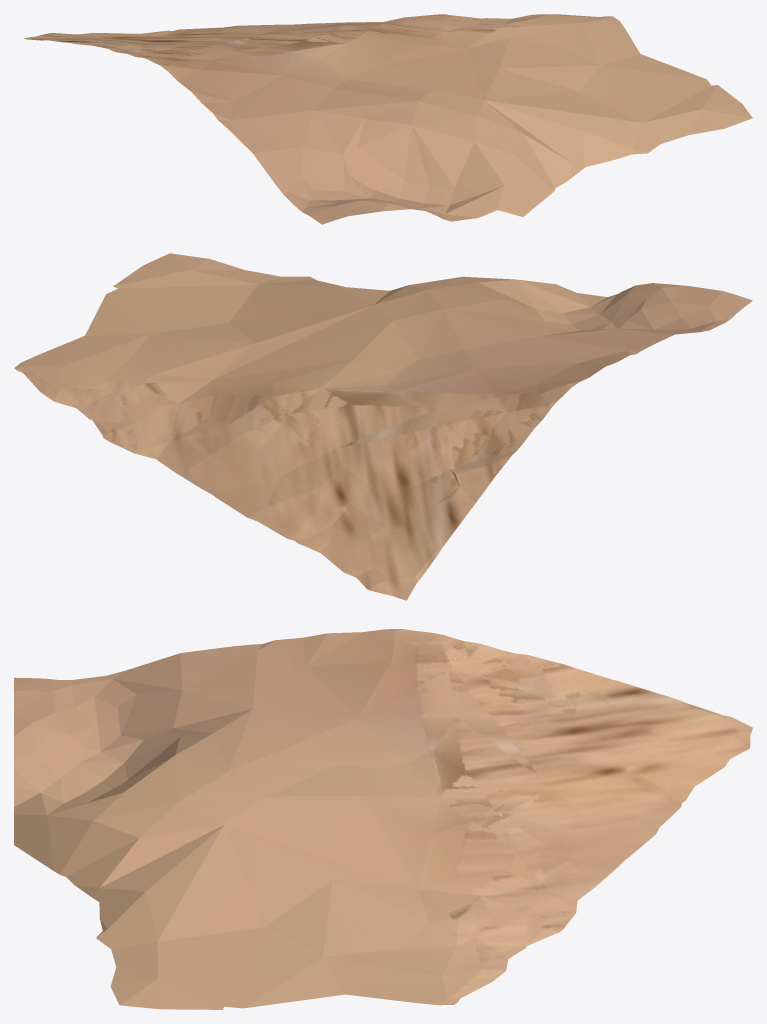
3 renders of one model, top to bottom at view 1: azimuth 30°, elevation 25°; view 2: azimuth 150°, elevation 25°; view 3: azimuth 270°, elevation 25°, orthographic. The views are drawn at different scales.
Size of the model in its own units: 0.617 by 0.1004 by 0.6824.
1 material, 1 textured.
